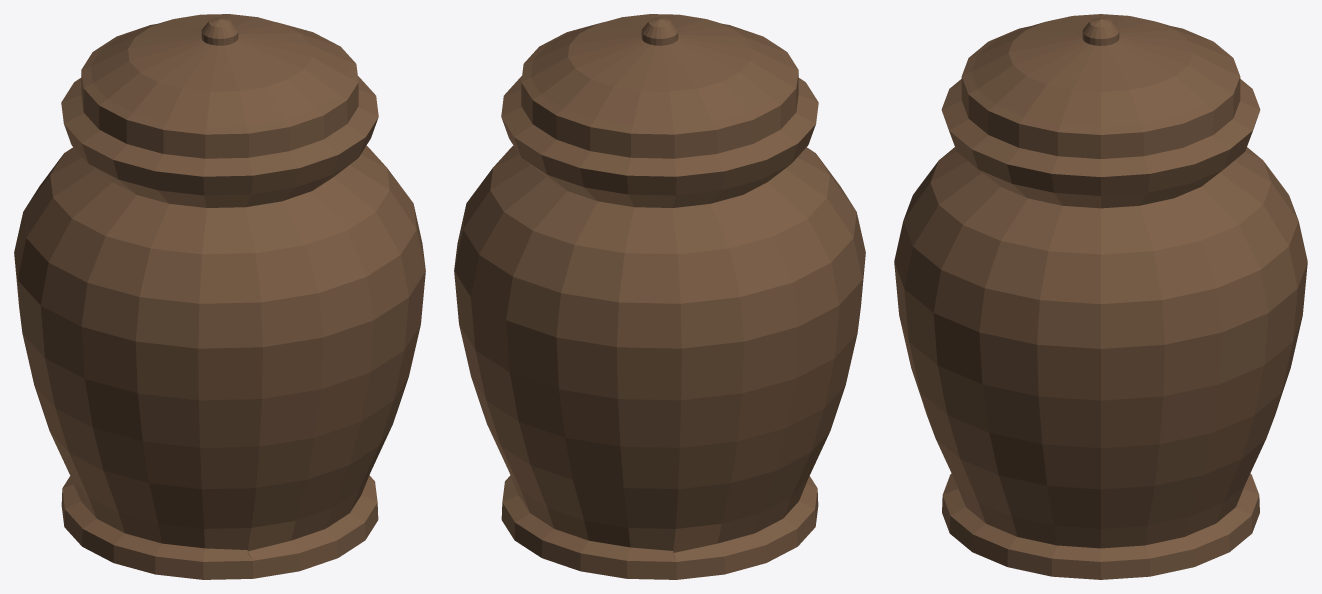
Rendered from BrokenPot.fbx.
3 views of the same model, side by side, from view 1: azimuth 30°, elevation 25°; view 2: azimuth 150°, elevation 25°; view 3: azimuth 270°, elevation 25° (orthographic).
Visible parts, largest first — view 1: fragment1, fragment4, fragment2, lid, fragment3; view 2: fragment1, fragment3, fragment2, lid, fragment4; view 3: fragment4, fragment3, lid, fragment1.
Boxes of the visible parts, x1=… form: fragment1: x1=14, y1=78, x2=262, y2=400; fragment4: x1=246, y1=76, x2=425, y2=437; fragment2: x1=14, y1=256, x2=261, y2=579; lid: x1=81, y1=14, x2=358, y2=158; fragment3: x1=247, y1=325, x2=420, y2=578; fragment1: x1=506, y1=78, x2=865, y2=378; fragment3: x1=454, y1=204, x2=679, y2=579; fragment2: x1=617, y1=326, x2=857, y2=579; lid: x1=521, y1=14, x2=798, y2=158; fragment4: x1=463, y1=76, x2=567, y2=319; fragment4: x1=894, y1=85, x2=1297, y2=414; fragment3: x1=912, y1=263, x2=1307, y2=579; lid: x1=961, y1=14, x2=1240, y2=158; fragment1: x1=939, y1=79, x2=1307, y2=287.
Bounding box in the file's own units: 2.43 × 3.2 × 2.43.
